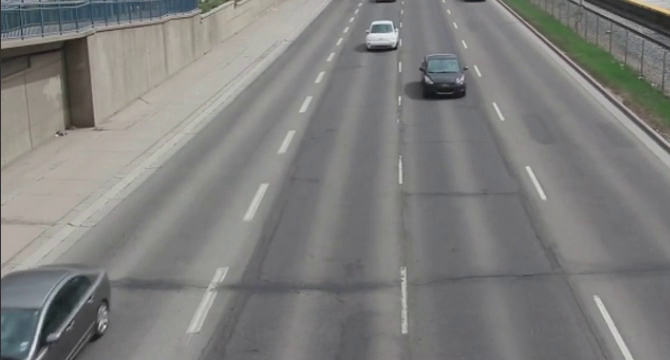car: (1, 258, 116, 360), (419, 53, 466, 100), (362, 18, 402, 53)
